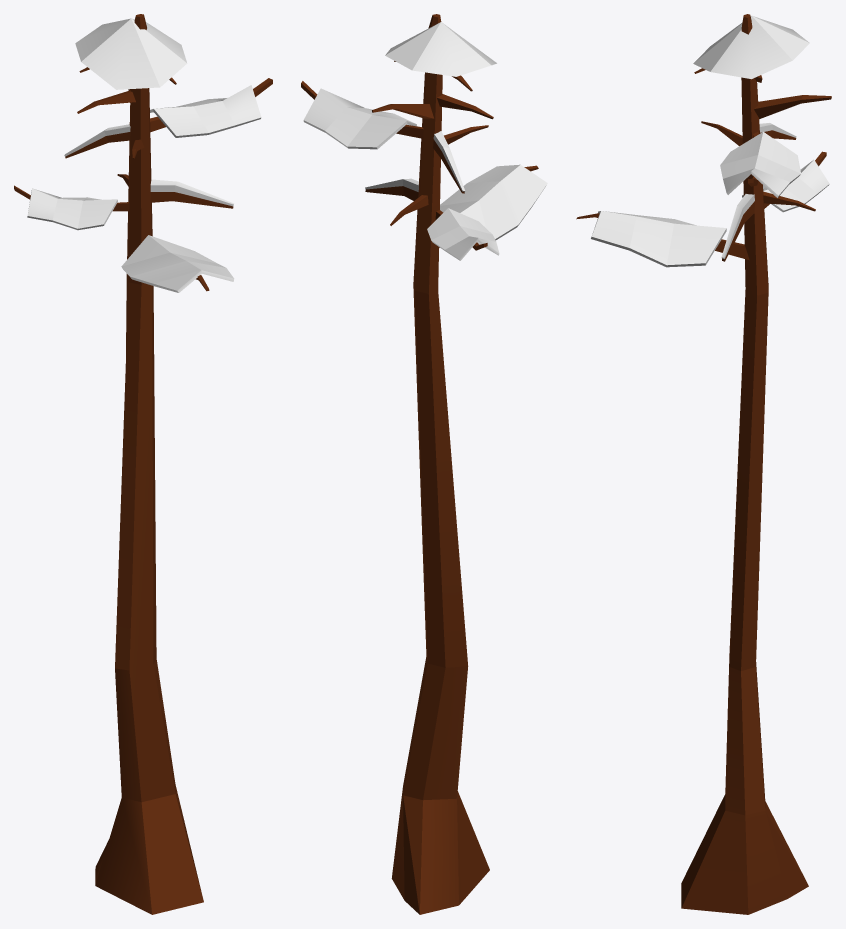
Rendered from Winter_017.fbx.
3 renders of one model, left to right at view 1: azimuth 30°, elevation 25°; view 2: azimuth 150°, elevation 25°; view 3: azimuth 270°, elevation 25°, orthographic.
Parts seen in each view (by area): view 1: Winter_017; view 2: Winter_017; view 3: Winter_017.
Part boxes in pixels (box(x1,y1,x2,y2)): Winter_017: box(14, 14, 272, 914); Winter_017: box(301, 14, 547, 914); Winter_017: box(576, 14, 831, 914).
Bounding box in the file's own units: 1.97 × 7.41 × 1.96.
